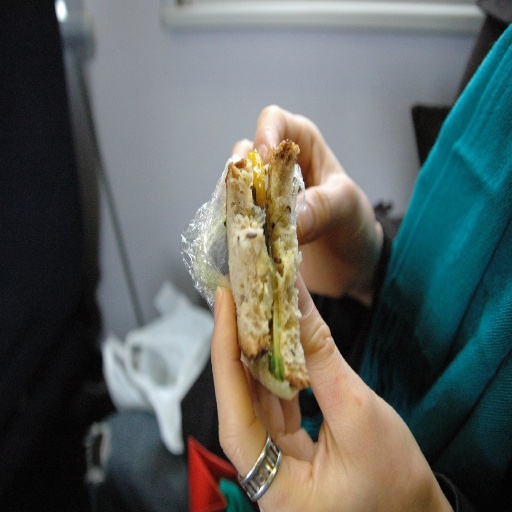hand: (211, 271, 446, 511), (222, 103, 376, 299)
